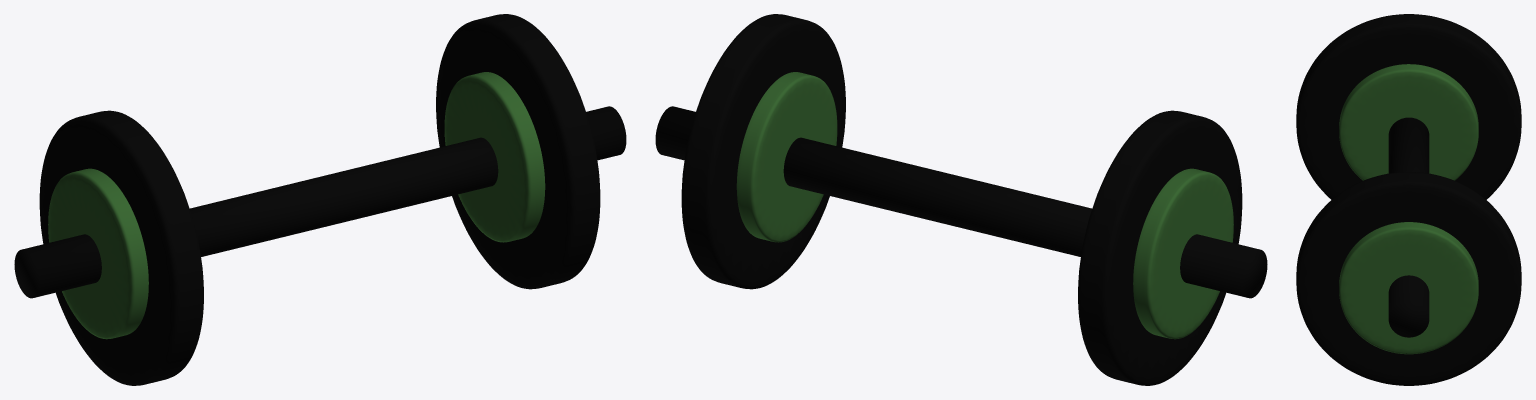
File: pesa_verde.glb
3 views of the same model, side by side, from view 1: azimuth 30°, elevation 25°; view 2: azimuth 150°, elevation 25°; view 3: azimuth 270°, elevation 25° (orthographic). The views are drawn at different scales.
Visible parts, largest first — view 1: Circle.012, Circle.015, Cylinder.002, Circle.016, Circle.013; view 2: Circle.012, Circle.015, Cylinder.002, Circle.016, Circle.013; view 3: Circle.015, Circle.012, Circle.017, Circle.014, Cylinder.002.
Boxes of the visible parts, left/top/right/bottom form: Circle.012: left=39, top=110, right=203, bottom=385; Circle.015: left=436, top=14, right=600, bottom=289; Cylinder.002: left=14, top=106, right=626, bottom=298; Circle.016: left=444, top=72, right=545, bottom=242; Circle.013: left=48, top=168, right=148, bottom=339; Circle.012: left=1078, top=110, right=1242, bottom=385; Circle.015: left=681, top=14, right=845, bottom=289; Cylinder.002: left=655, top=106, right=1267, bottom=298; Circle.016: left=736, top=72, right=837, bottom=242; Circle.013: left=1133, top=168, right=1233, bottom=339; Circle.015: left=1296, top=172, right=1521, bottom=385; Circle.012: left=1296, top=14, right=1521, bottom=199; Circle.017: left=1339, top=222, right=1478, bottom=354; Circle.014: left=1339, top=64, right=1478, bottom=180; Cylinder.002: left=1388, top=117, right=1429, bottom=337.
Size of the model in its own units: 8.13 by 3.31 by 3.31.
